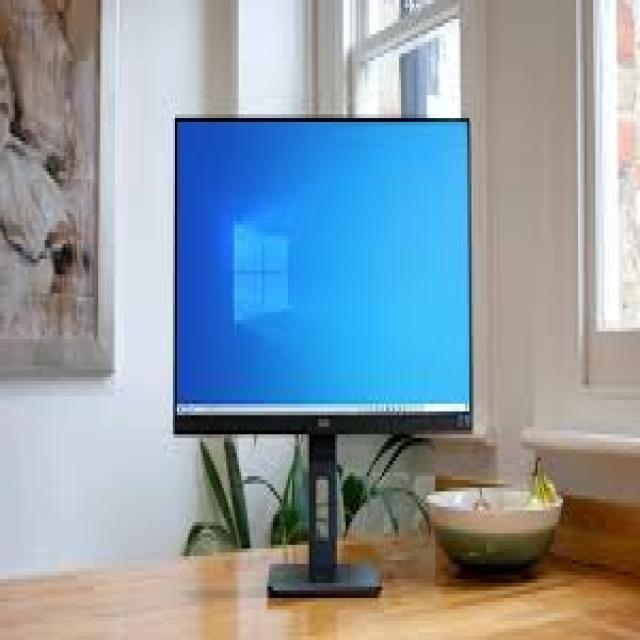monitor: (145, 107, 509, 623)
